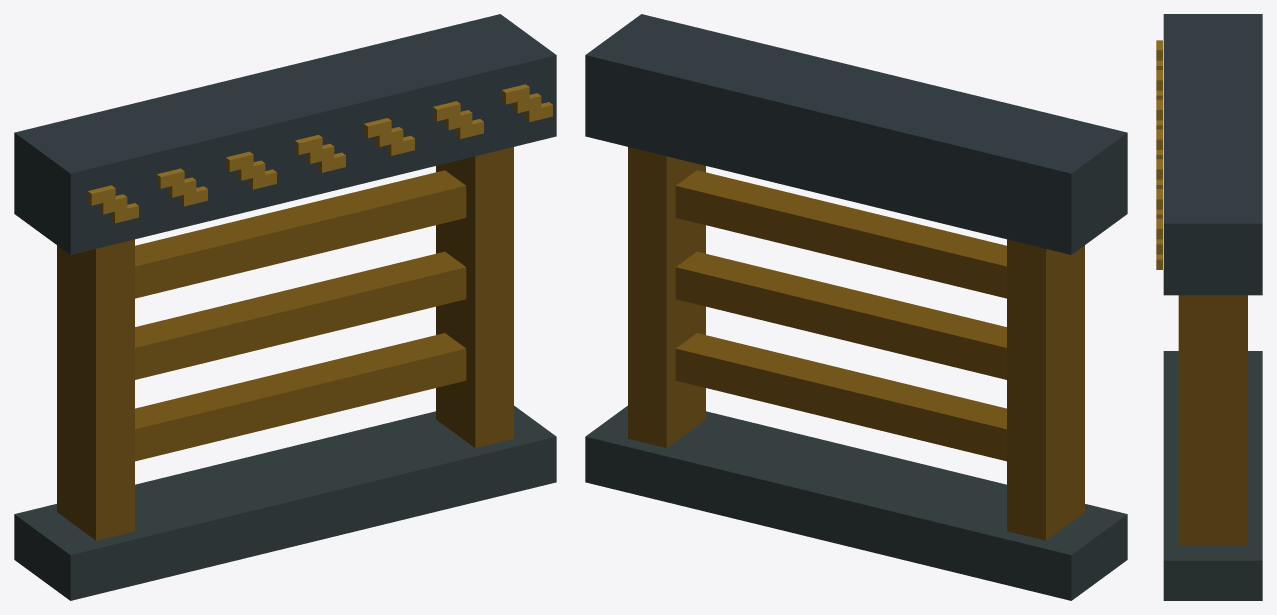
Rendered from CMU3DRetractableRailing.glb.
3 renders of one model, left to right at view 1: azimuth 30°, elevation 25°; view 2: azimuth 150°, elevation 25°; view 3: azimuth 270°, elevation 25°, orthographic. The views are drawn at different scales.
Visible parts, largest first — view 1: top black housing, gold horizontal rails (×3), retractable sill, gold lifting column (×2); view 2: top black housing, gold horizontal rails (×3), retractable sill, gold lifting column (×2); view 3: top black housing, gold lifting column, retractable sill.
Boxes of the visible parts, box(x1,y1,x2,y2) form: top black housing: box(14, 14, 556, 254); gold horizontal rails (×3): box(135, 170, 466, 461); retractable sill: box(14, 405, 556, 600); gold lifting column (×2): box(57, 147, 513, 540); top black housing: box(585, 14, 1127, 254); gold horizontal rails (×3): box(675, 170, 1006, 461); retractable sill: box(585, 405, 1127, 600); gold lifting column (×2): box(628, 147, 1084, 540); top black housing: box(1163, 14, 1262, 295); gold lifting column: box(1178, 295, 1247, 545); retractable sill: box(1163, 351, 1262, 600).
Bounding box in the file's own units: 1 × 0.84 × 0.215.
